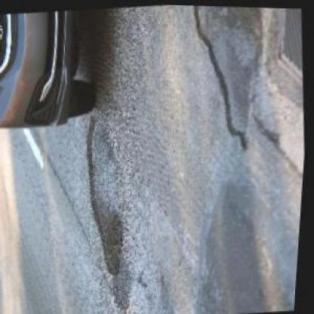Hueco: (74, 111, 140, 275)
